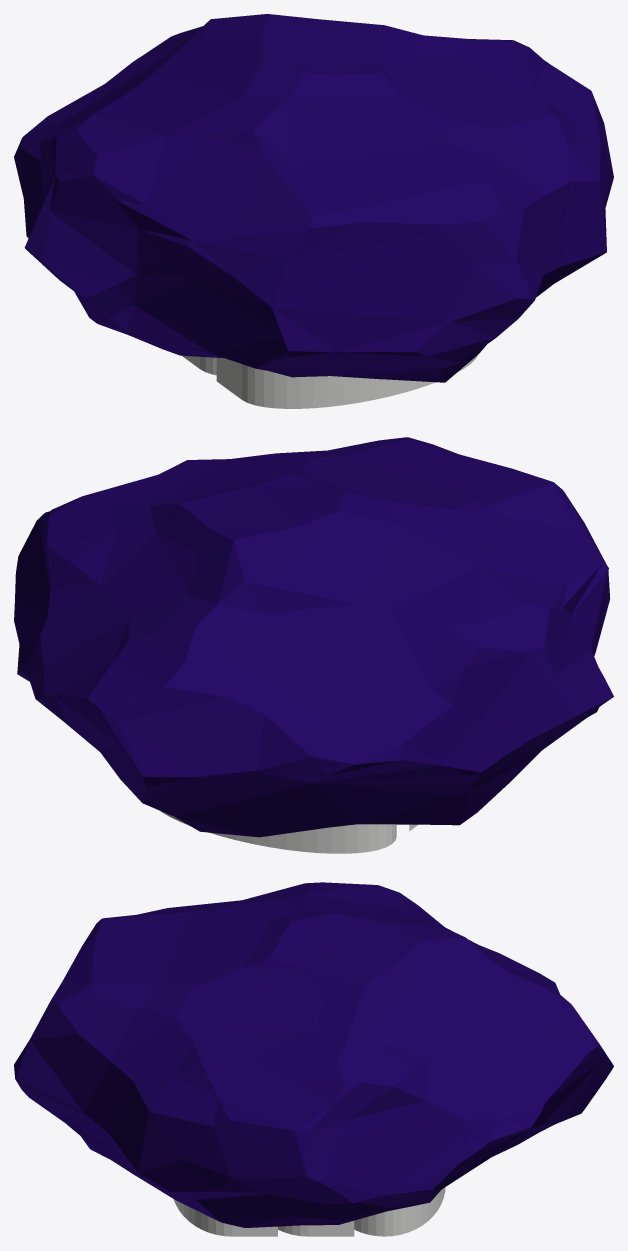
The picture shows the model from 3 angles, top to bottom: view 1: azimuth 30°, elevation 25°; view 2: azimuth 150°, elevation 25°; view 3: azimuth 270°, elevation 25°; orthographic projection. The views are drawn at different scales.
Visible parts, largest first — view 1: Cube.007, Curve; view 2: Cube.007, Curve; view 3: Cube.007, Curve.
Boxes of the visible parts, x1,y1,x2,y2 form: Cube.007: [14, 14, 613, 382]; Curve: [182, 355, 477, 408]; Cube.007: [14, 437, 613, 837]; Curve: [159, 810, 418, 853]; Cube.007: [14, 882, 613, 1227]; Curve: [173, 1187, 445, 1236].
Size of the model in its own units: 2 by 0.96 by 2.04.
